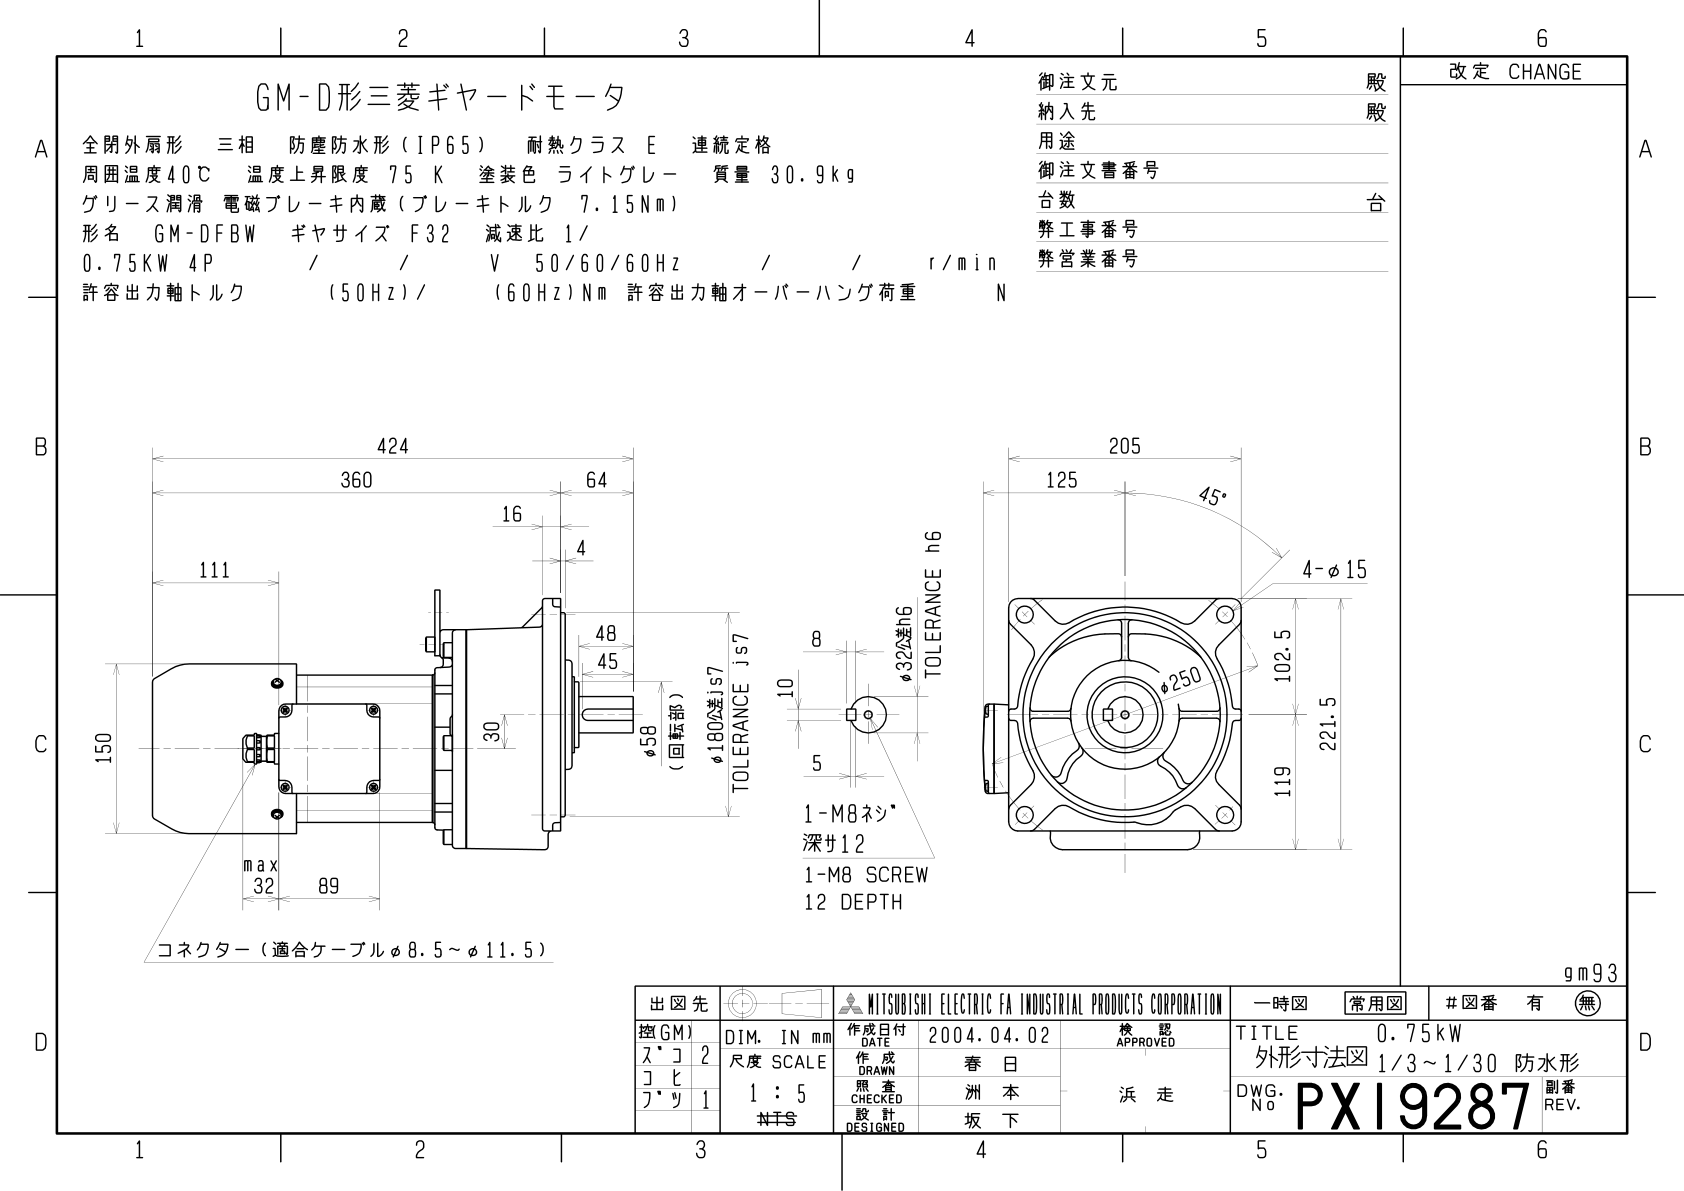GM_D_IP65_三相_フランジ: (70, 378, 1386, 969)
